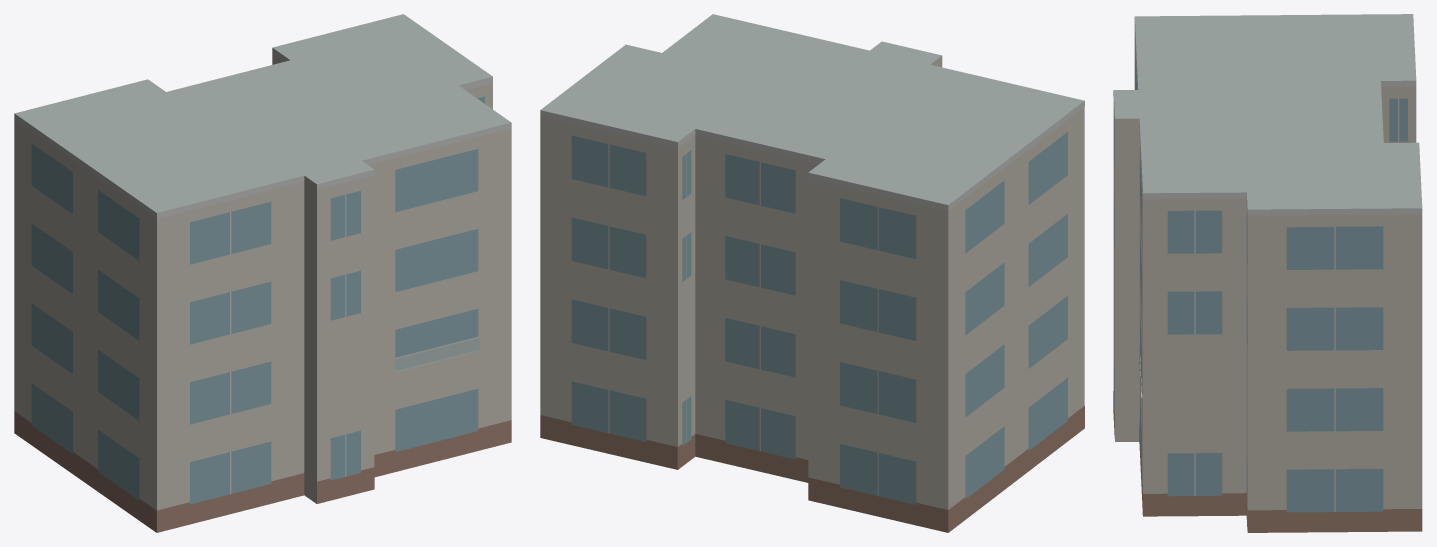
File: survey-upis-32714729.glb
3 views of the same model, side by side, from view 1: azimuth 30°, elevation 25°; view 2: azimuth 150°, elevation 25°; view 3: azimuth 270°, elevation 25° (orthographic). The views are drawn at different scales.
Visible parts, largest first — view 1: survey-upis-32714729.tmp; view 2: survey-upis-32714729.tmp; view 3: survey-upis-32714729.tmp.
Part boxes in pixels (x1=…): survey-upis-32714729.tmp: x1=14, y1=14, x2=511, y2=532; survey-upis-32714729.tmp: x1=540, y1=14, x2=1084, y2=532; survey-upis-32714729.tmp: x1=1113, y1=14, x2=1422, y2=532.
Size of the model in its own units: 17.01 by 13.1 by 11.35.
